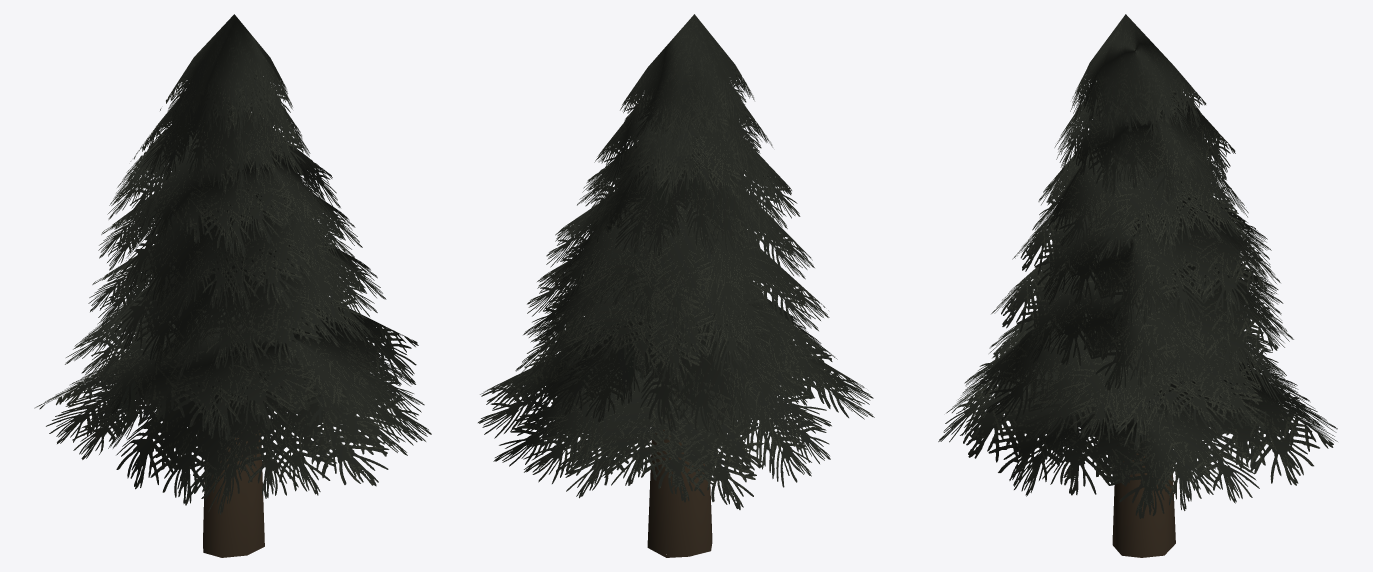
Rendered from Pine_2.fbx.
The picture shows the model from 3 angles, left to right: view 1: azimuth 30°, elevation 25°; view 2: azimuth 150°, elevation 25°; view 3: azimuth 270°, elevation 25°; orthographic projection. The views are drawn at different scales.
Visible parts, largest first — view 1: Pine_2; view 2: Pine_2; view 3: Pine_2.
Boxes of the visible parts, x1,y1,x2,y2 form: Pine_2: (34,14,431,557); Pine_2: (478,14,874,557); Pine_2: (938,14,1337,557).
Bounding box in the file's own units: 5.09 × 7.03 × 5.31.
